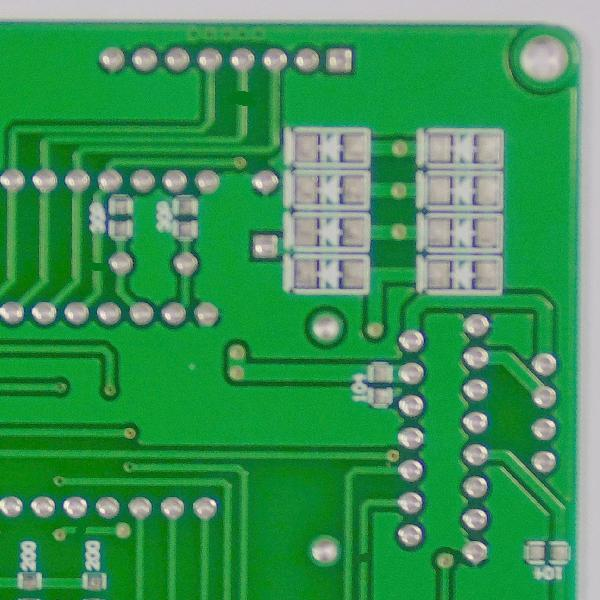open_circuit: (232, 87, 251, 111), (89, 258, 106, 275), (70, 523, 89, 538), (355, 551, 370, 567)
